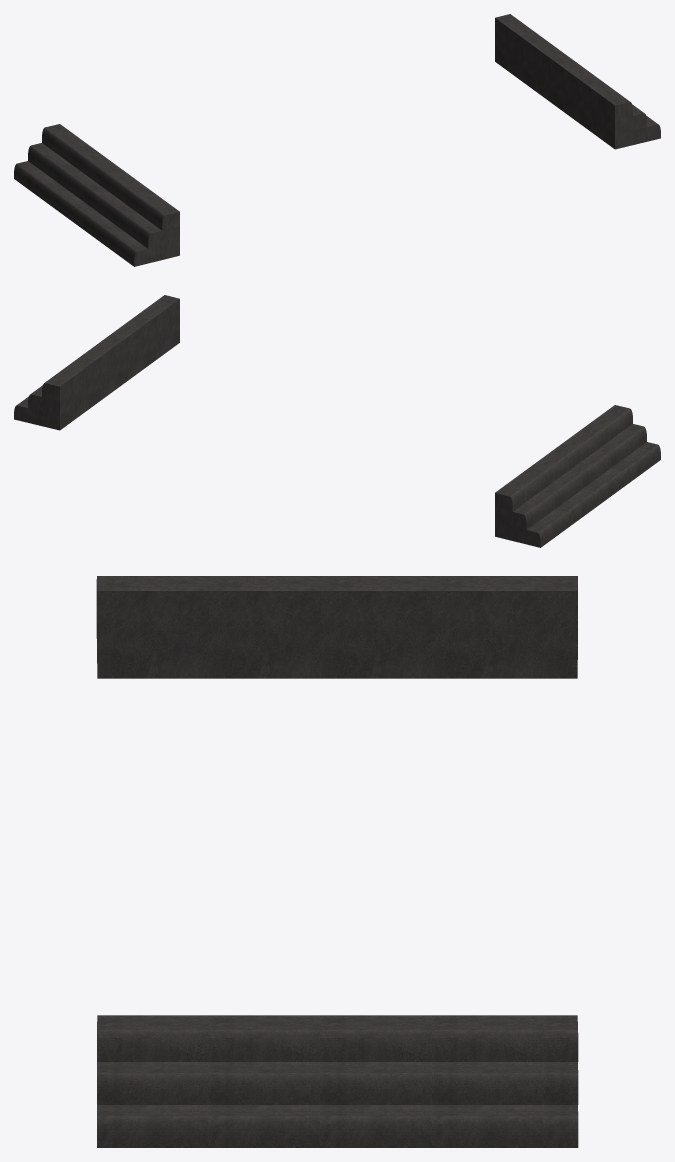
Rendered from board-stairs.gltf.
3 views of the same model, one above another, from view 1: azimuth 30°, elevation 25°; view 2: azimuth 150°, elevation 25°; view 3: azimuth 270°, elevation 25° (orthographic). The views are drawn at different scales.
Parts seen in each view (by area): view 1: lesnitsa; view 2: lesnitsa; view 3: lesnitsa.
Boxes of the visible parts, <box> form: lesnitsa: <box>14,14,660,266</box>; lesnitsa: <box>14,295,660,547</box>; lesnitsa: <box>96,576,578,1147</box>.
Size of the model in its own units: 0.7534 by 0.06 by 0.2982.
1 material, 1 textured.
